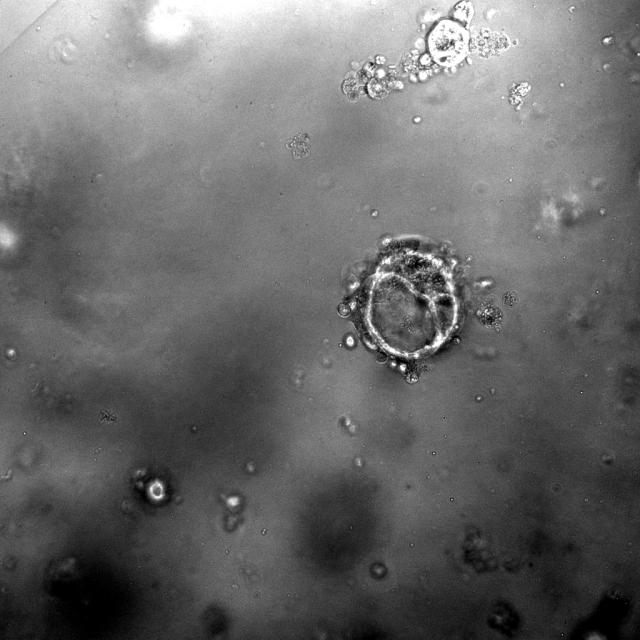organoid: (337, 235, 468, 383), (341, 0, 517, 102), (129, 468, 172, 515), (462, 529, 496, 572), (219, 492, 245, 532), (476, 296, 502, 329), (286, 133, 310, 160), (509, 82, 531, 110), (502, 291, 519, 306)
